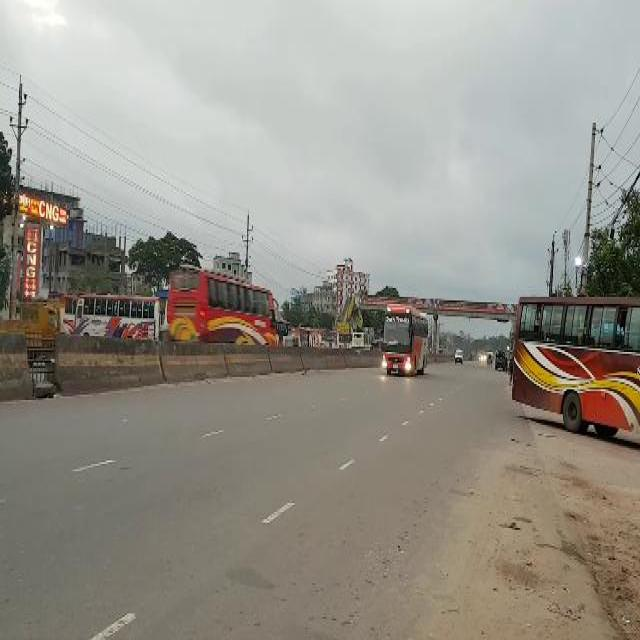12: (495, 349, 505, 369)
15: (454, 348, 462, 362)
Truck: (512, 290, 640, 432), (74, 294, 160, 335), (382, 303, 428, 376)
